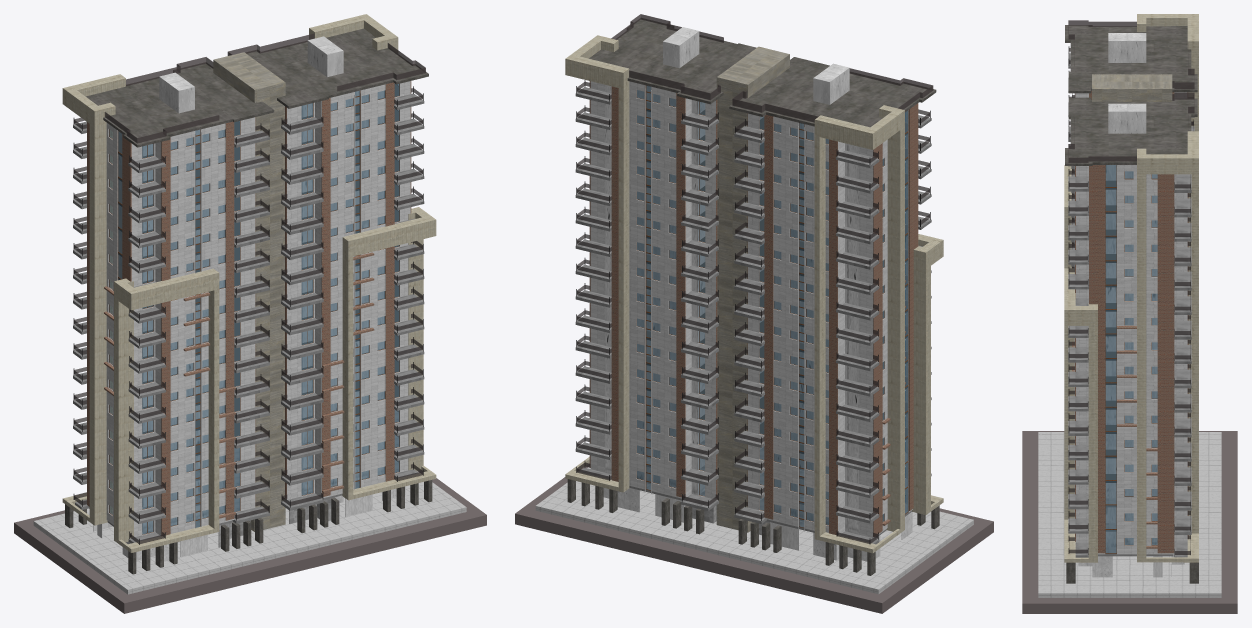
The model's file is modern_tower_office_apartment_house_home-v1.glb.
The picture shows the model from 3 angles, left to right: view 1: azimuth 30°, elevation 25°; view 2: azimuth 150°, elevation 25°; view 3: azimuth 270°, elevation 25°; orthographic projection. The views are drawn at different scales.
Parts seen in each view (by area): view 1: Line016, Box588, Box605, Box334, Line212, Line206, Line213, Line216, Box1229, Box1228, Line207, Box1230 (+8 smaller); view 2: Line016, Box588, Box605, Line207, Line216, Box334, Line206, Box1228, Line213, Box1229, Box1230, Line212 (+9 smaller); view 3: Box588, Line016, Box1229, Box605, Line213, Box1230, Box334, Line212, Line207, Line216, Line206, Box620 (+7 smaller).
Part boxes in pixels (x1,y1,x2,y2): Line016: [88, 81, 410, 536]; Box588: [62, 14, 436, 552]; Box605: [87, 81, 411, 535]; Box334: [109, 84, 399, 534]; Line212: [73, 93, 424, 543]; Line206: [74, 88, 422, 543]; Line213: [86, 28, 428, 147]; Line216: [118, 91, 384, 532]; Box1229: [33, 471, 466, 594]; Box1228: [213, 52, 285, 531]; Line207: [73, 121, 417, 542]; Box1230: [14, 470, 486, 613]; Line016: [590, 81, 912, 537]; Box588: [565, 35, 943, 553]; Box605: [589, 81, 918, 536]; Line207: [575, 87, 905, 543]; Line216: [605, 85, 858, 534]; Box334: [637, 86, 907, 527]; Line206: [576, 81, 930, 543]; Box1228: [716, 46, 789, 532]; Line213: [589, 18, 936, 127]; Box1229: [535, 467, 973, 594]; Box1230: [515, 463, 993, 613]; Line212: [575, 94, 931, 544]; Box588: [1064, 14, 1198, 562]; Line016: [1075, 92, 1187, 554]; Box1229: [1038, 432, 1221, 597]; Box605: [1072, 91, 1188, 553]; Line213: [1065, 25, 1197, 165]; Box1230: [1022, 431, 1237, 613]; Box334: [1105, 165, 1157, 553]; Line212: [1068, 53, 1194, 557]; Line207: [1071, 126, 1194, 556]; Line216: [1105, 165, 1157, 547]; Line206: [1069, 48, 1193, 554]; Box620: [1108, 33, 1146, 133].
Bounding box in the file's own units: 45.42 × 55.88 × 23.92.
Materials: 16 (10 with a texture image).
